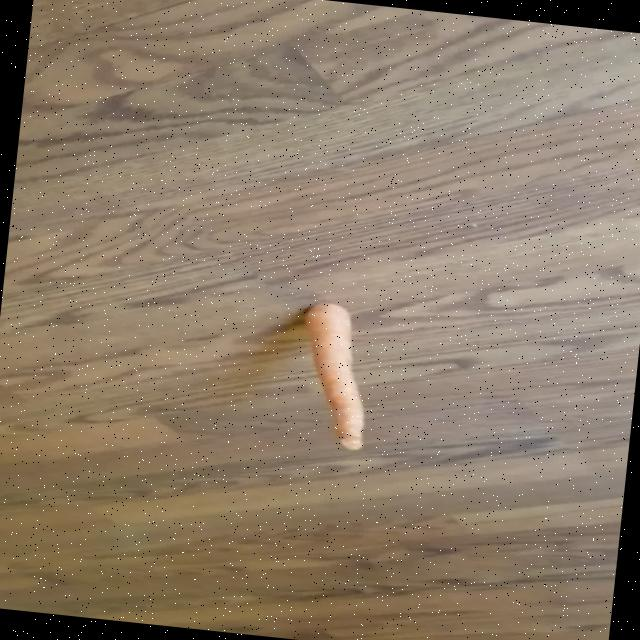carrot: (304, 302, 364, 448)
